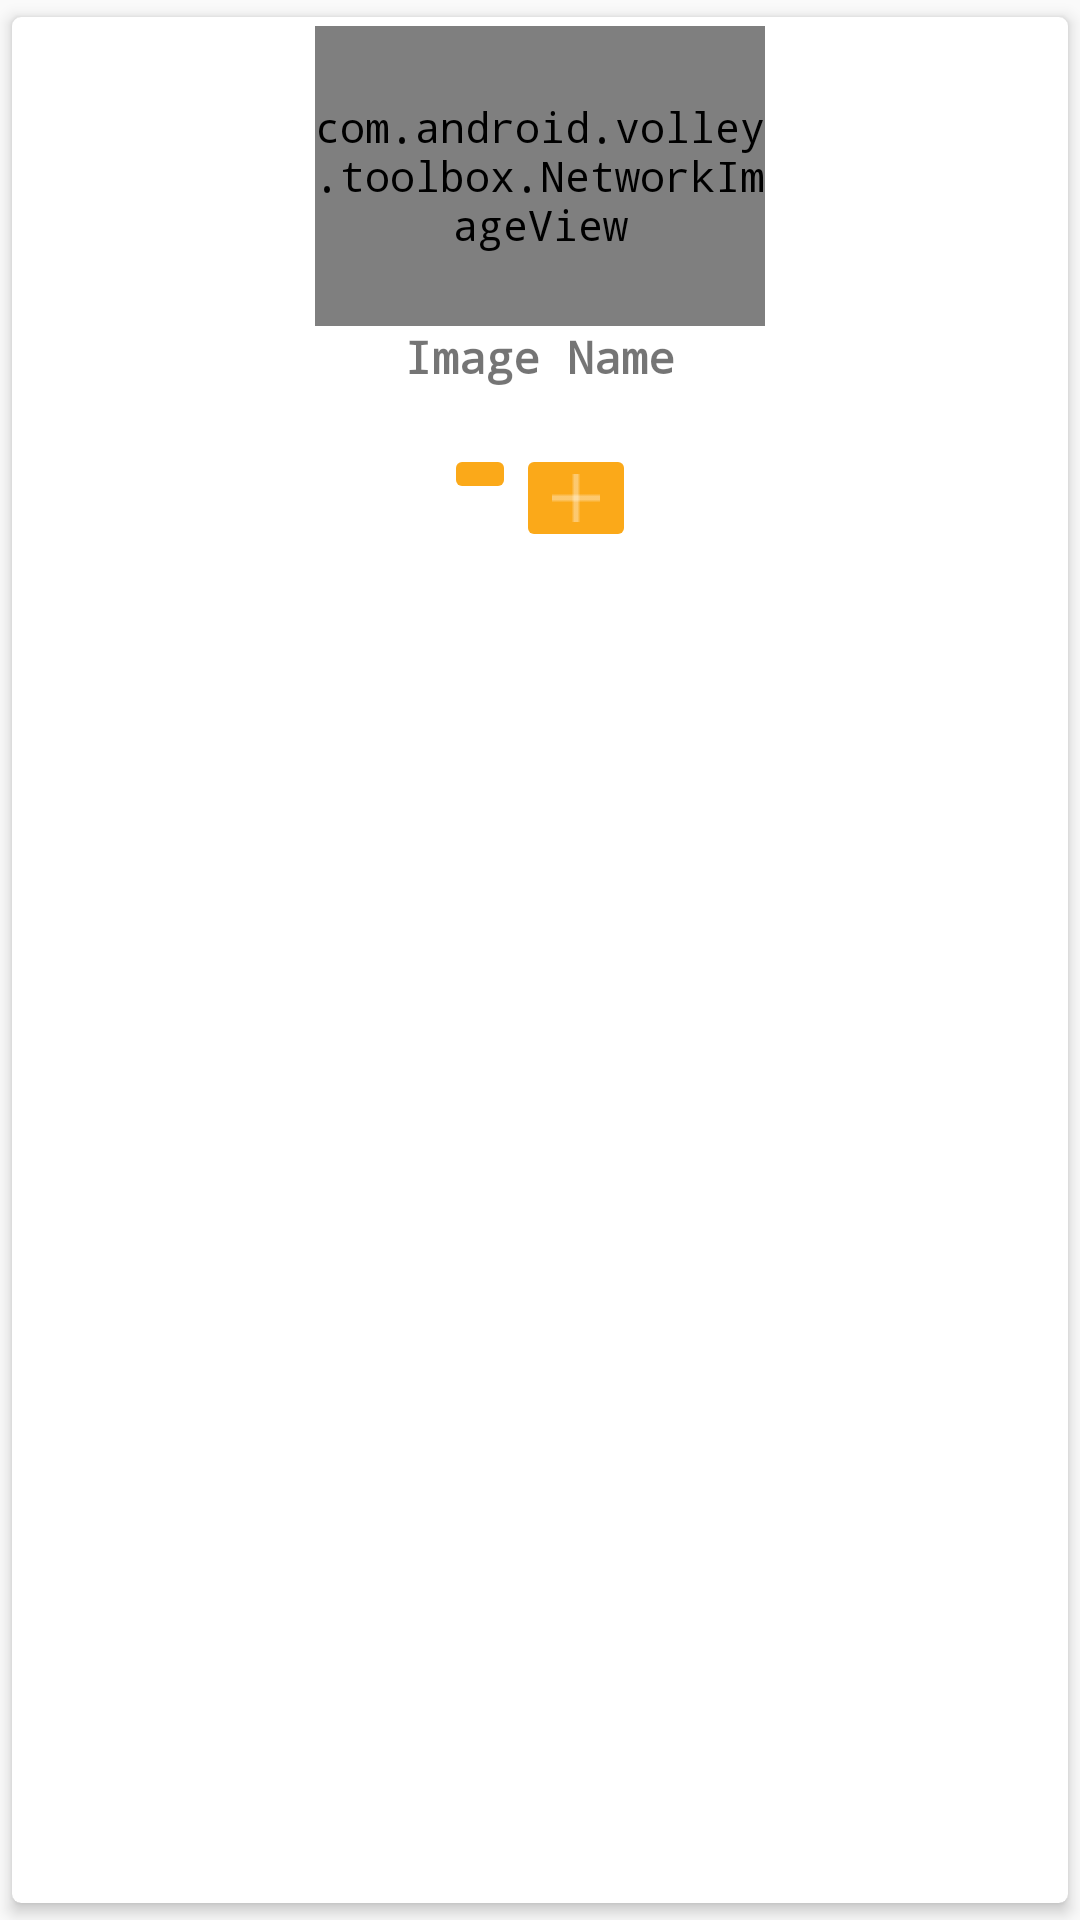

Named icons in this screenshot (1080x1920) and their centers, [x,y]:
add: [576,498]
